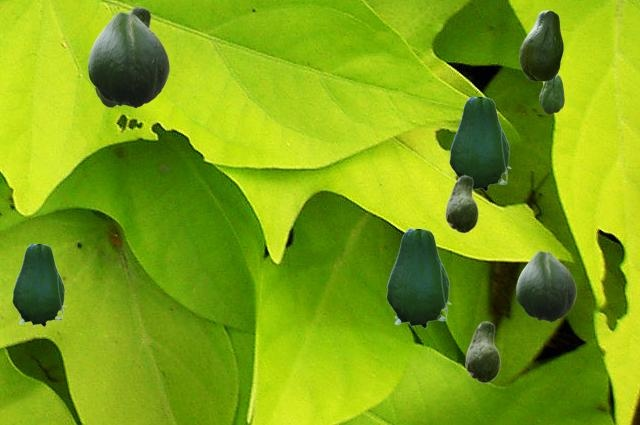sayote: (88, 12, 168, 107), (386, 229, 450, 329), (449, 97, 510, 192), (12, 244, 65, 327), (516, 251, 575, 321), (519, 10, 562, 80), (465, 321, 499, 382), (445, 175, 477, 232), (539, 74, 563, 113), (126, 6, 154, 30), (95, 88, 116, 106)
